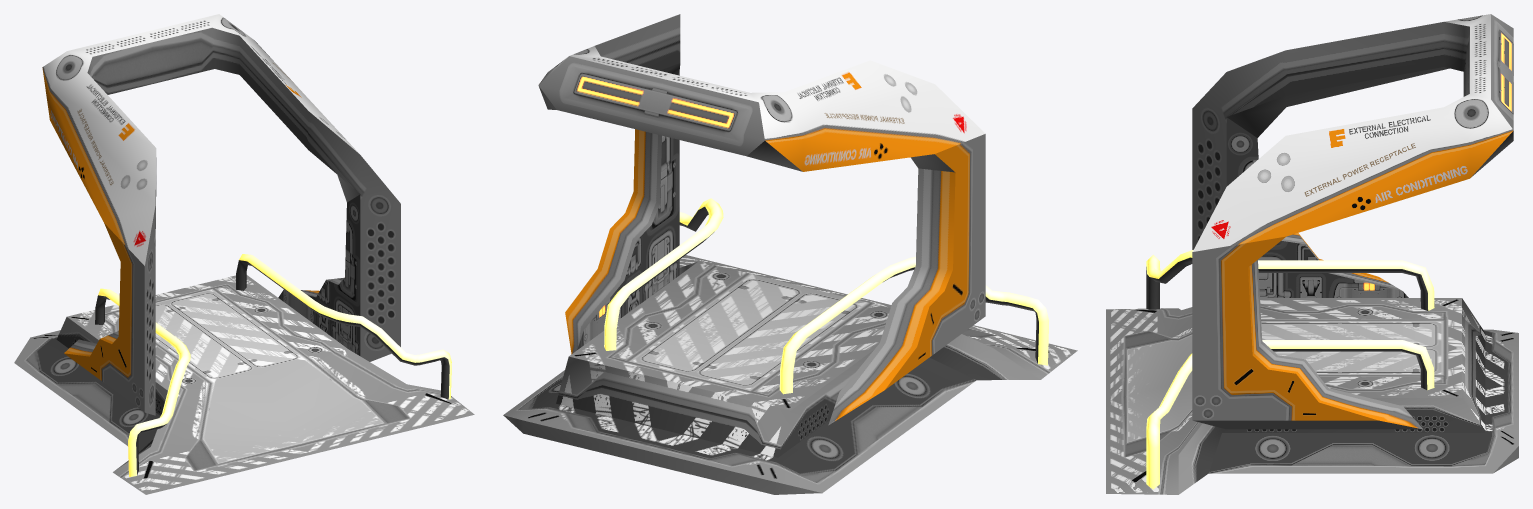
Rendered from goods-station-1.glb.
The picture shows the model from 3 angles, left to right: view 1: azimuth 30°, elevation 25°; view 2: azimuth 150°, elevation 25°; view 3: azimuth 270°, elevation 25°; orthographic projection. The views are drawn at different scales.
Parts seen in each view (by area): view 1: Plane.004; view 2: Plane.004; view 3: Plane.004.
Part boxes in pixels (x1=…): Plane.004: x1=14, y1=14, x2=474, y2=494; Plane.004: x1=503, y1=14, x2=1077, y2=494; Plane.004: x1=1106, y1=14, x2=1518, y2=494.
Bounding box in the file's own units: 12.99 × 11.25 × 12.13.
1 material, 1 textured.
